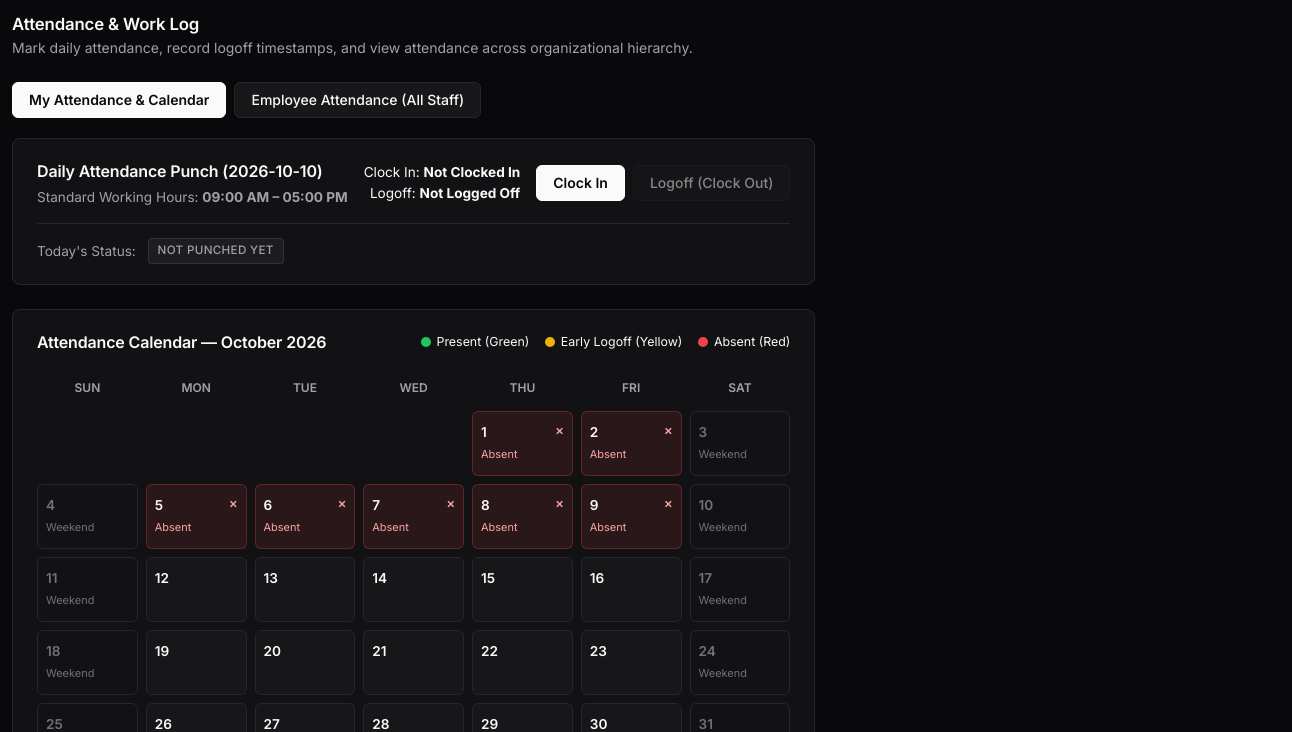
Scenario: Attendance Hierarchy Scope › HR sees Employee Attendance (All Staff) tab
Expected: the button with test id "tab-my-attendance" is shown, [12,82,226,118]
Click the button with test id "tab-all-attendance".
click(358, 100)  # box [234,82,481,118]
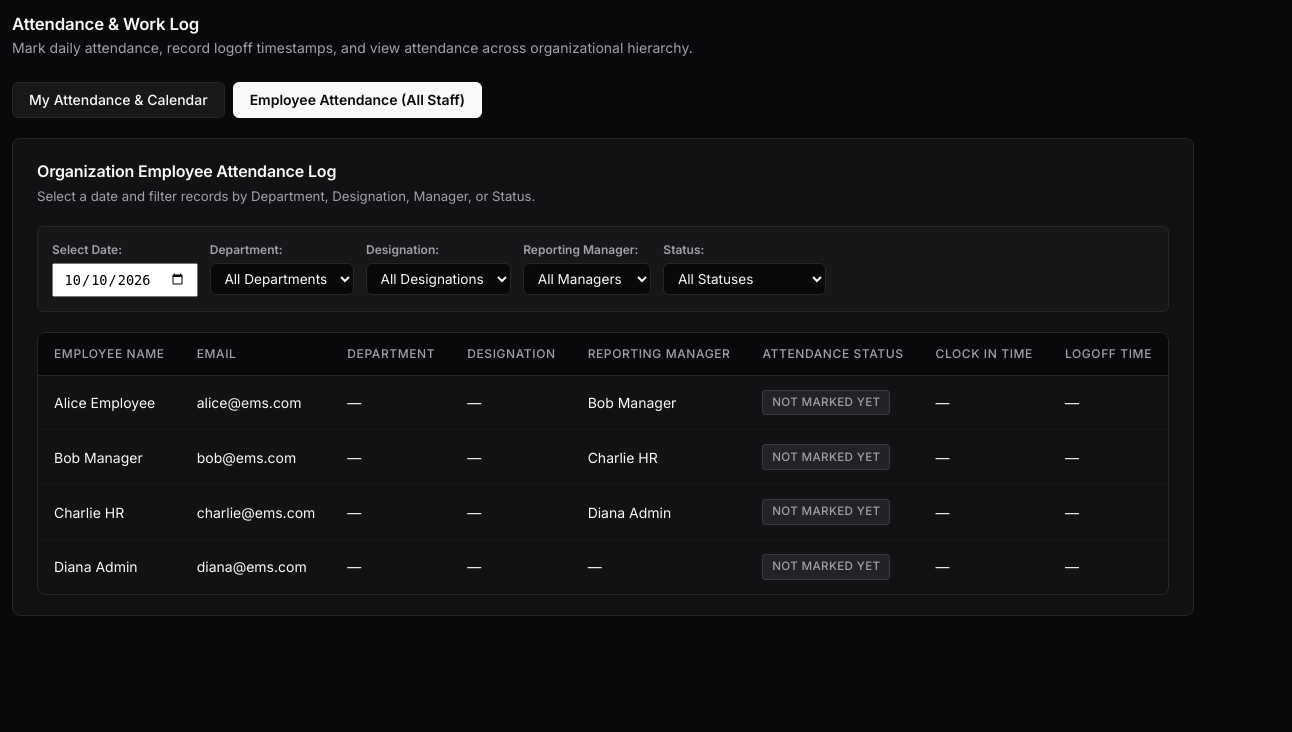
Result: the text "Alice Employee" is shown at [38,375,181,430]
